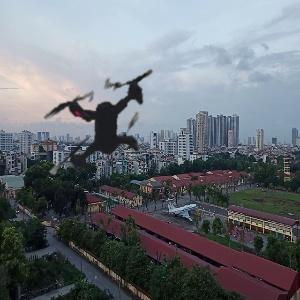drone: (2, 21, 204, 223)
